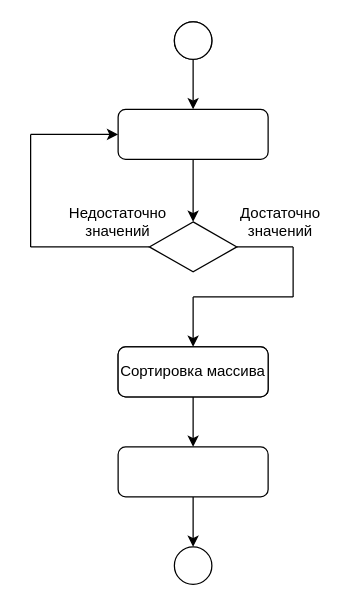
The diagram is 343 pixels wide and 606 high, and some of its shapes have lost their labels. Here are the shapes that lost their labels. From the top down, the centre of each, then its label:
At point (192, 133): "Задание кол-ва элементов массива".
At point (192, 471): "Вывод информации в файл".
